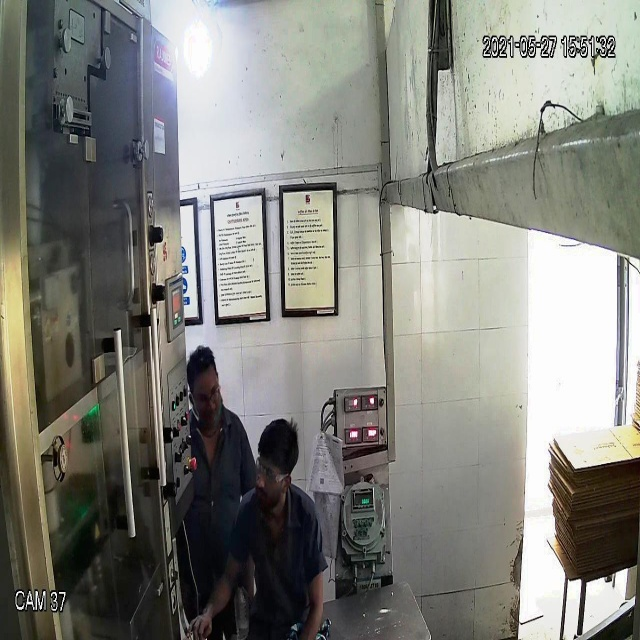Gafas: (251, 451, 296, 487)
